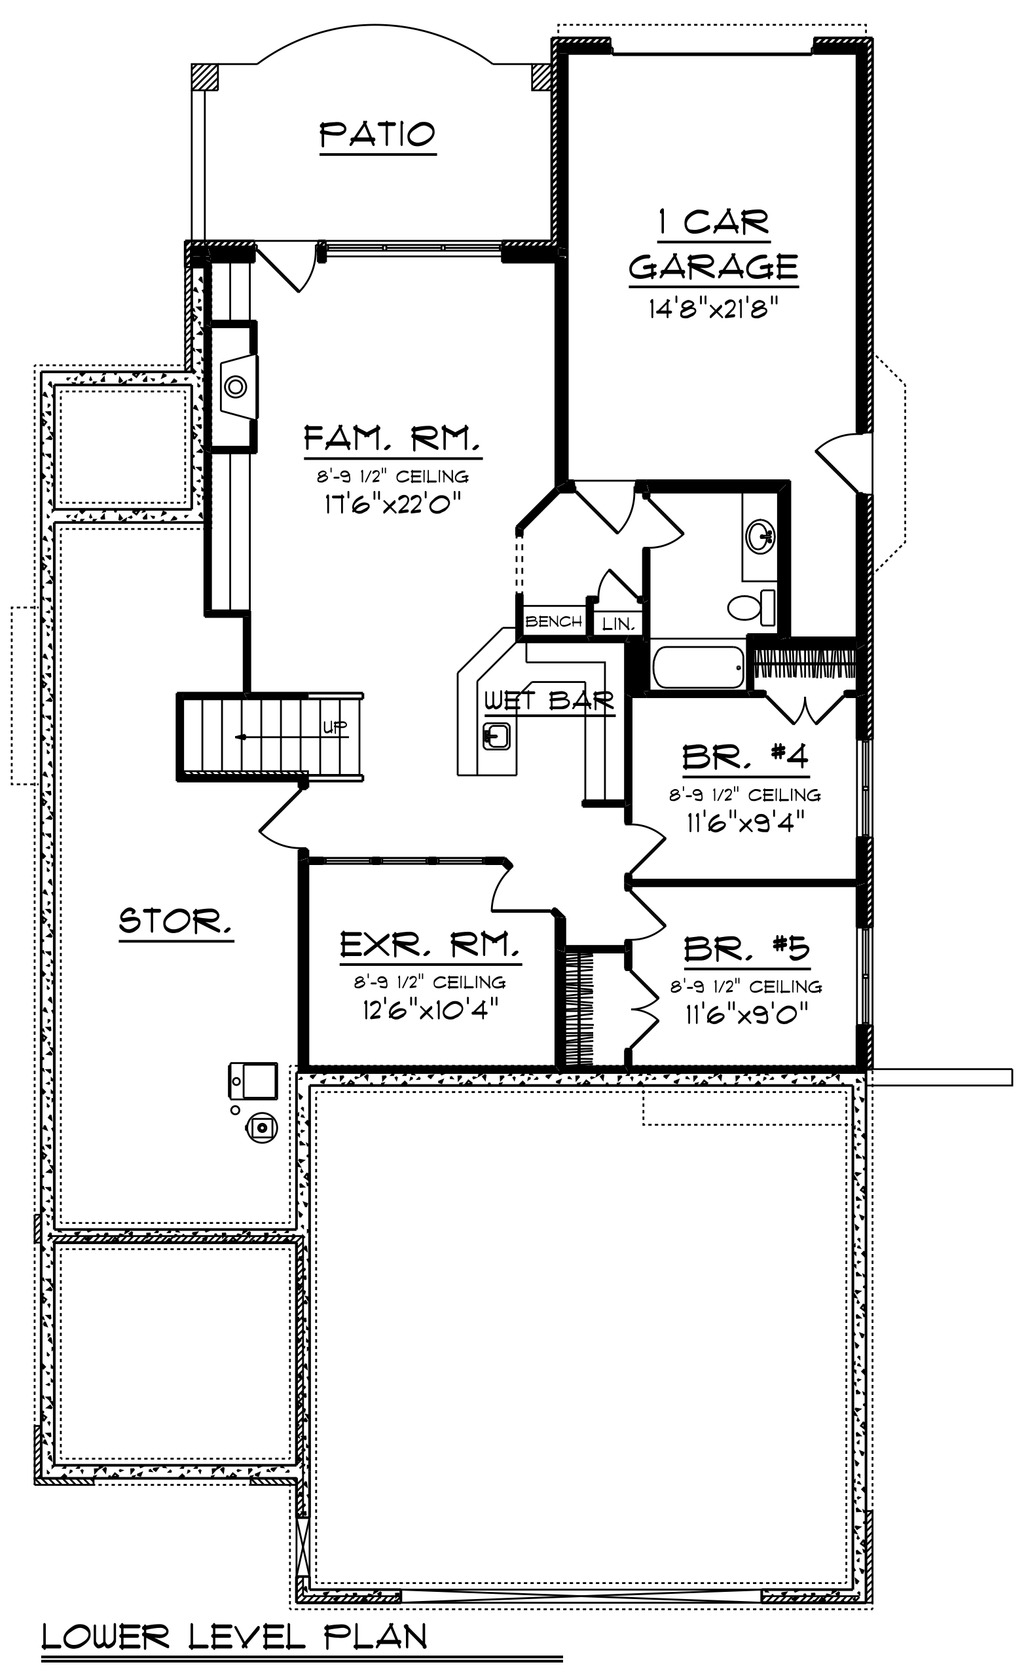door: (622, 959, 669, 1065), (255, 229, 320, 303), (811, 424, 870, 501), (248, 779, 307, 853), (575, 478, 643, 541), (480, 865, 564, 915), (770, 688, 852, 728), (616, 879, 671, 938), (614, 812, 664, 876), (646, 488, 681, 556)
large_sink: (731, 574, 784, 628)
small_sink: (731, 490, 793, 585)
stairs: (172, 696, 364, 781)
tub: (646, 638, 750, 690)
windows: (325, 237, 499, 267), (854, 719, 884, 839), (850, 921, 881, 1031)
